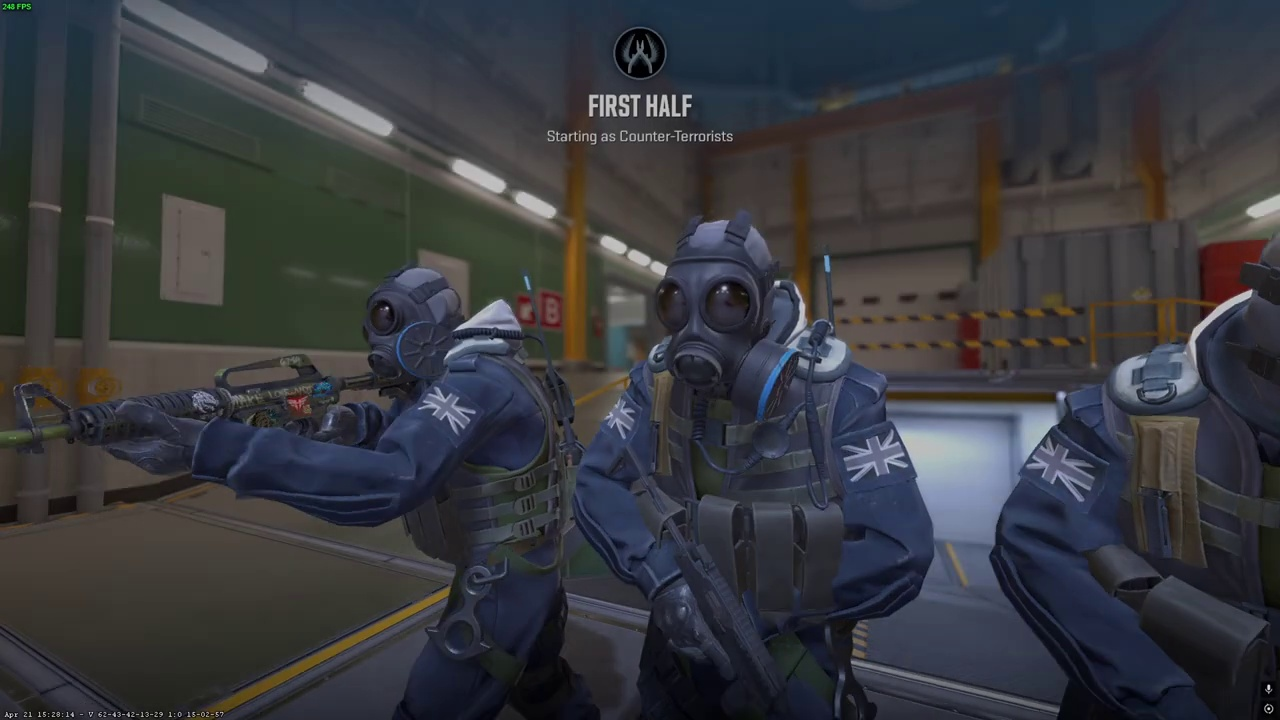CT: (585, 210, 935, 720), (997, 223, 1280, 720), (332, 263, 584, 720)
